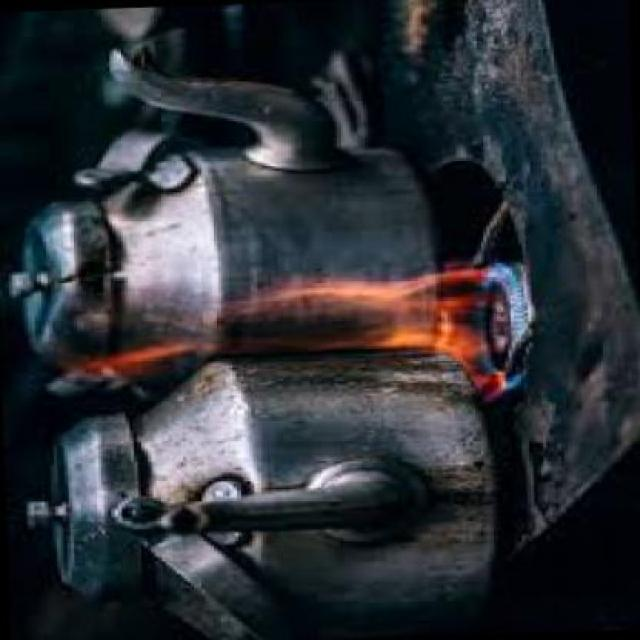Fire: (63, 258, 517, 390)
